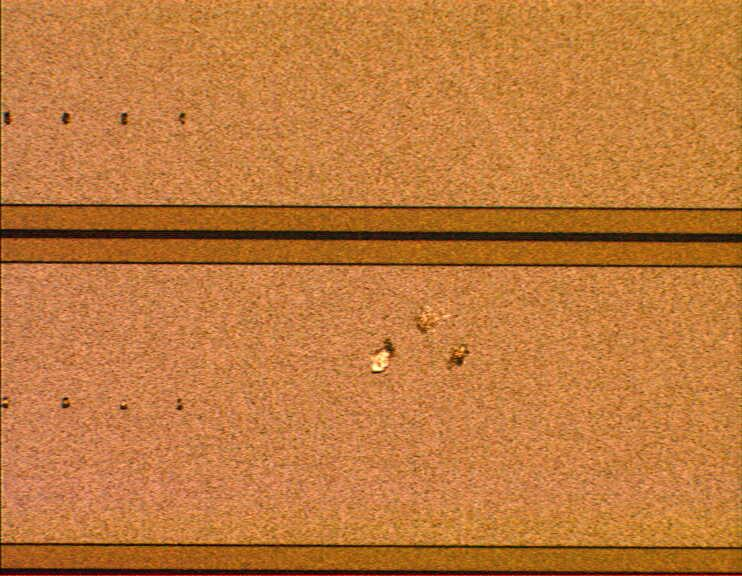COATING BAD: (340, 302, 491, 379)
